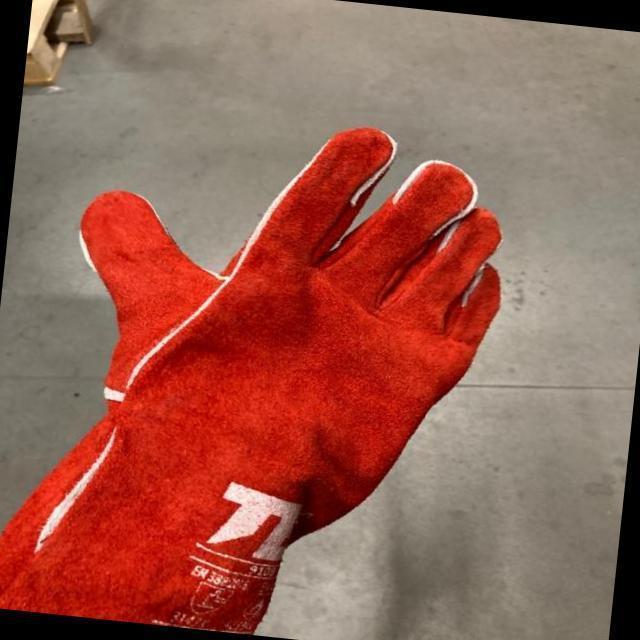Gloves: (0, 124, 503, 635)
